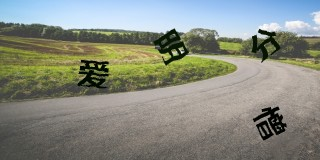分: (251, 28, 281, 63)
憎: (253, 106, 287, 141)
明: (154, 28, 189, 65)
爱: (76, 59, 111, 89)
